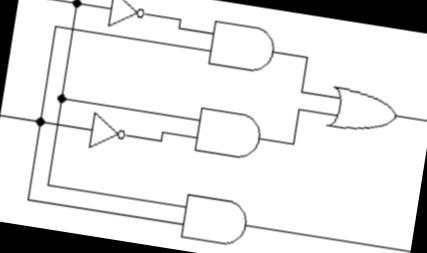and: (172, 186, 258, 252), (187, 99, 269, 168), (202, 14, 283, 80)
not: (83, 108, 133, 155), (102, 0, 150, 35)
or: (322, 77, 403, 140)
